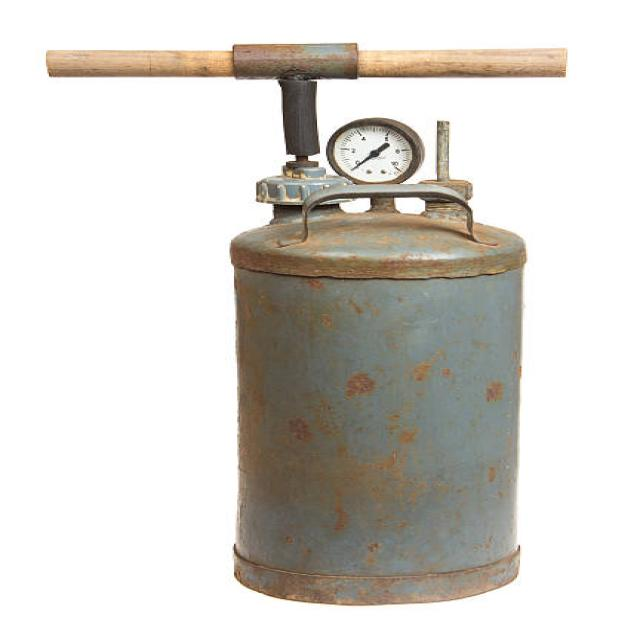compressor: (44, 29, 608, 606)
